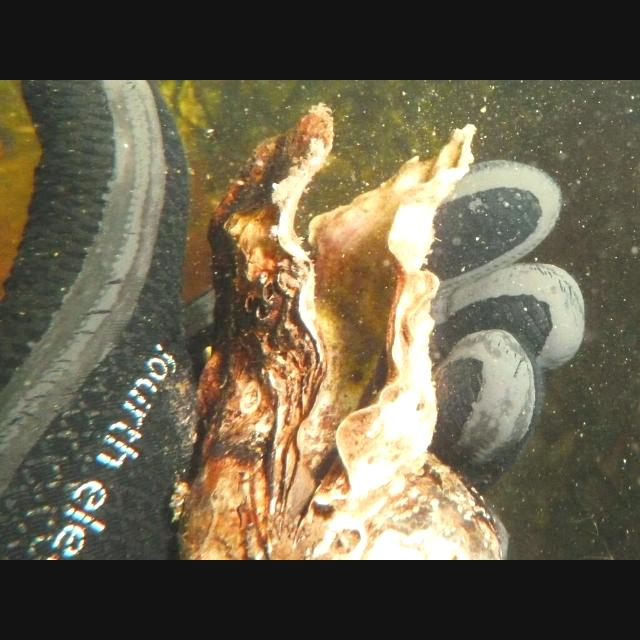Oyster-Open: (172, 100, 476, 560)
